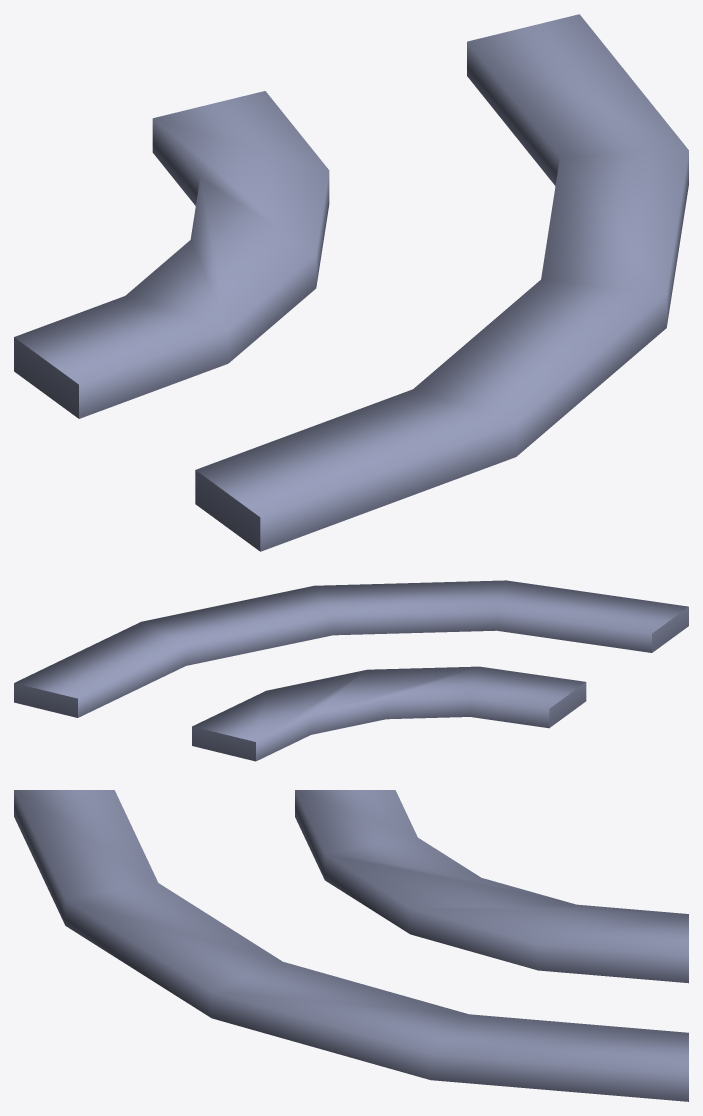
Rendered from trainset-rail-corner.glb.
The picture shows the model from 3 angles, top to bottom: view 1: azimuth 30°, elevation 25°; view 2: azimuth 150°, elevation 25°; view 3: azimuth 270°, elevation 25°; orthographic projection. The views are drawn at different scales.
Visible parts, largest first — view 1: trainset-rail-corner; view 2: trainset-rail-corner; view 3: trainset-rail-corner.
Boxes of the visible parts, bbox=[...] form: trainset-rail-corner: bbox=[14, 14, 688, 551]; trainset-rail-corner: bbox=[14, 580, 688, 761]; trainset-rail-corner: bbox=[14, 790, 688, 1101].
Size of the model in its own units: 0.3485 by 0.0151 by 0.3485.
